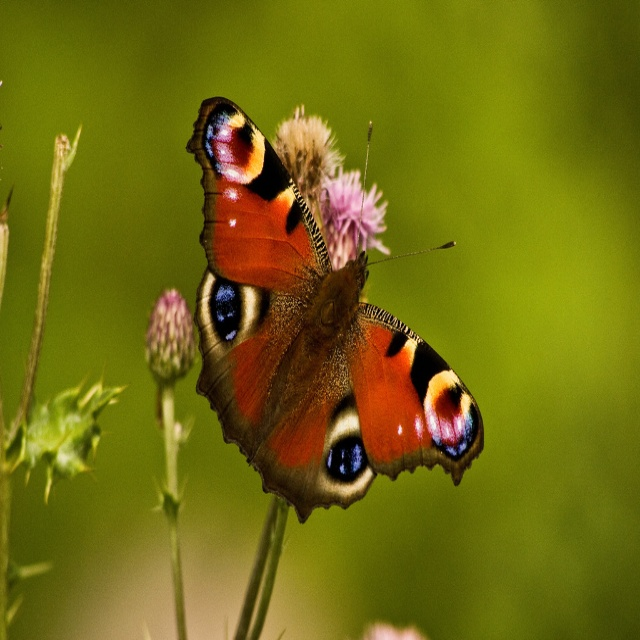Butterfly: (188, 98, 486, 522)
